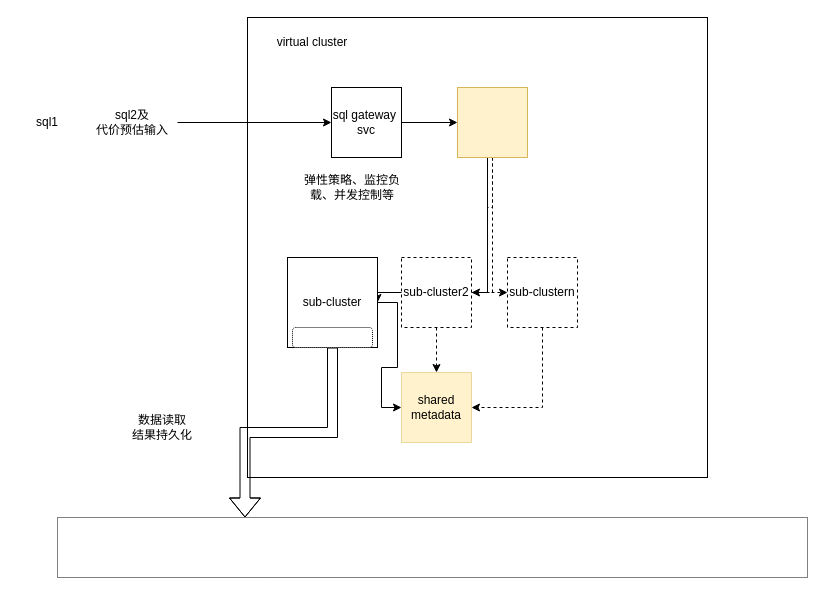
Image size: 825x595. Some labels were removed from this diagram. The shapes that lost their labels are listed below. From the top down, each one's centre as x and y in pixels, then its label:
the point at 492,122: engine operator
the point at 332,337: local 临时存储
the point at 432,547: 存算分离 持久存储
